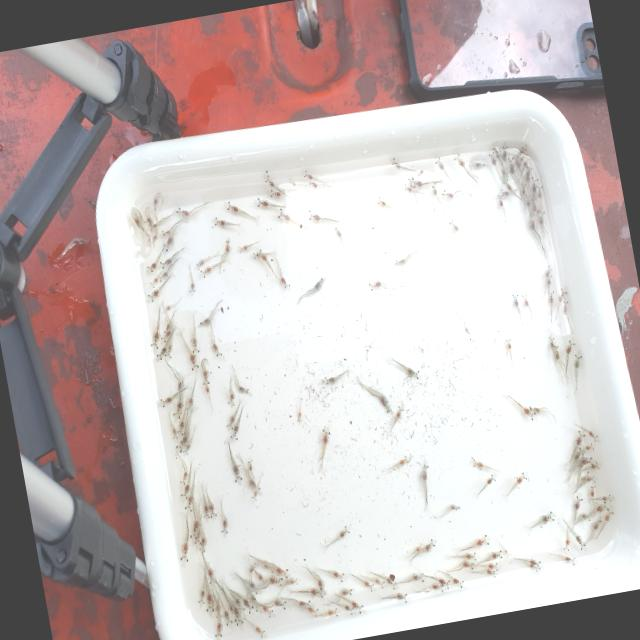babyshrimp: (385, 351, 421, 379), (377, 389, 390, 413), (519, 405, 536, 423), (472, 532, 489, 549), (276, 206, 291, 224), (432, 153, 445, 173), (573, 533, 586, 553), (366, 277, 382, 293), (221, 604, 232, 627), (188, 517, 199, 540), (228, 420, 239, 443), (171, 399, 183, 420), (183, 489, 193, 514), (240, 596, 253, 615), (174, 434, 187, 453), (392, 405, 403, 427), (149, 328, 160, 350), (187, 351, 198, 373), (448, 576, 464, 591), (161, 234, 173, 253), (453, 152, 465, 171), (563, 336, 575, 355), (518, 292, 530, 311), (573, 427, 585, 446), (570, 492, 582, 511), (159, 394, 174, 409), (434, 574, 449, 589), (274, 565, 288, 581), (260, 605, 273, 622), (173, 207, 190, 220), (233, 604, 243, 626), (556, 284, 567, 304), (507, 291, 518, 311), (147, 287, 159, 305), (328, 569, 343, 583), (348, 599, 362, 614), (267, 574, 282, 588), (247, 591, 257, 612), (307, 209, 322, 223), (571, 350, 581, 371), (539, 511, 553, 526), (512, 471, 527, 485), (179, 538, 187, 564), (255, 195, 268, 211), (439, 186, 452, 202), (462, 326, 475, 342), (578, 470, 591, 486), (231, 460, 240, 483), (311, 277, 323, 294), (446, 216, 458, 233), (160, 324, 171, 342), (224, 412, 235, 430), (410, 177, 424, 191), (587, 459, 601, 473), (247, 477, 260, 492), (213, 215, 226, 230), (225, 200, 238, 215), (527, 558, 540, 573), (375, 194, 387, 210), (427, 583, 443, 595), (205, 565, 215, 584), (180, 478, 189, 499), (389, 155, 400, 172), (205, 590, 213, 613), (305, 606, 319, 619), (484, 473, 497, 487), (271, 598, 286, 610), (184, 394, 193, 414), (163, 340, 172, 360), (199, 264, 211, 279), (268, 188, 283, 200), (528, 174, 538, 192), (536, 207, 545, 227), (594, 501, 609, 513), (602, 507, 614, 522), (470, 455, 482, 470), (294, 598, 310, 609), (246, 578, 257, 594), (219, 513, 227, 535), (501, 177, 512, 193), (197, 534, 206, 553), (487, 150, 496, 169), (309, 586, 322, 599), (419, 463, 427, 484), (338, 524, 350, 538), (384, 576, 396, 590), (323, 606, 337, 618), (253, 625, 265, 639), (278, 276, 290, 290), (560, 555, 574, 567), (423, 538, 434, 553), (234, 596, 245, 611), (263, 174, 274, 189), (586, 429, 597, 444), (590, 517, 601, 532), (178, 467, 187, 485), (190, 335, 199, 353), (526, 214, 535, 232), (214, 618, 222, 638), (155, 345, 165, 361), (361, 579, 373, 592), (158, 257, 171, 269), (599, 492, 611, 505), (490, 548, 502, 561), (527, 404, 540, 416), (320, 428, 329, 445), (175, 418, 184, 435), (429, 180, 437, 199), (211, 342, 221, 357), (148, 274, 158, 289), (146, 260, 156, 275), (506, 155, 513, 176), (342, 603, 354, 615), (226, 391, 234, 409), (236, 383, 248, 395), (198, 316, 210, 328), (490, 143, 498, 161), (518, 181, 526, 199), (545, 289, 554, 305), (504, 334, 512, 352), (323, 375, 336, 386), (463, 550, 476, 561), (256, 249, 266, 263), (402, 181, 412, 195), (579, 456, 593, 466), (208, 503, 216, 520), (180, 442, 189, 457), (157, 270, 168, 282), (582, 441, 593, 453), (410, 572, 423, 582), (392, 258, 405, 268), (495, 191, 503, 207), (560, 299, 568, 315), (197, 587, 204, 605), (201, 367, 208, 385), (543, 264, 552, 278), (561, 538, 570, 552), (459, 561, 473, 570), (395, 592, 406, 603), (373, 577, 384, 588), (223, 239, 231, 254), (486, 561, 498, 571), (500, 143, 507, 160), (573, 447, 582, 460), (202, 500, 208, 519), (316, 578, 324, 592), (287, 175, 295, 189), (535, 184, 542, 200), (397, 455, 407, 466), (485, 568, 495, 579), (339, 587, 351, 596), (333, 226, 342, 238), (552, 343, 558, 361), (501, 547, 510, 559), (170, 426, 177, 441), (588, 484, 595, 499), (250, 489, 258, 502), (546, 335, 554, 348), (413, 541, 422, 552), (194, 259, 203, 270), (303, 171, 312, 182), (307, 180, 316, 191), (237, 243, 246, 254), (584, 474, 595, 483), (187, 280, 194, 294), (251, 251, 263, 259), (473, 161, 485, 169), (447, 504, 460, 511), (202, 381, 209, 394), (288, 577, 298, 586), (246, 458, 252, 472), (498, 189, 507, 198), (249, 561, 256, 572), (158, 229, 169, 236), (255, 572, 262, 581), (296, 411, 301, 422)
